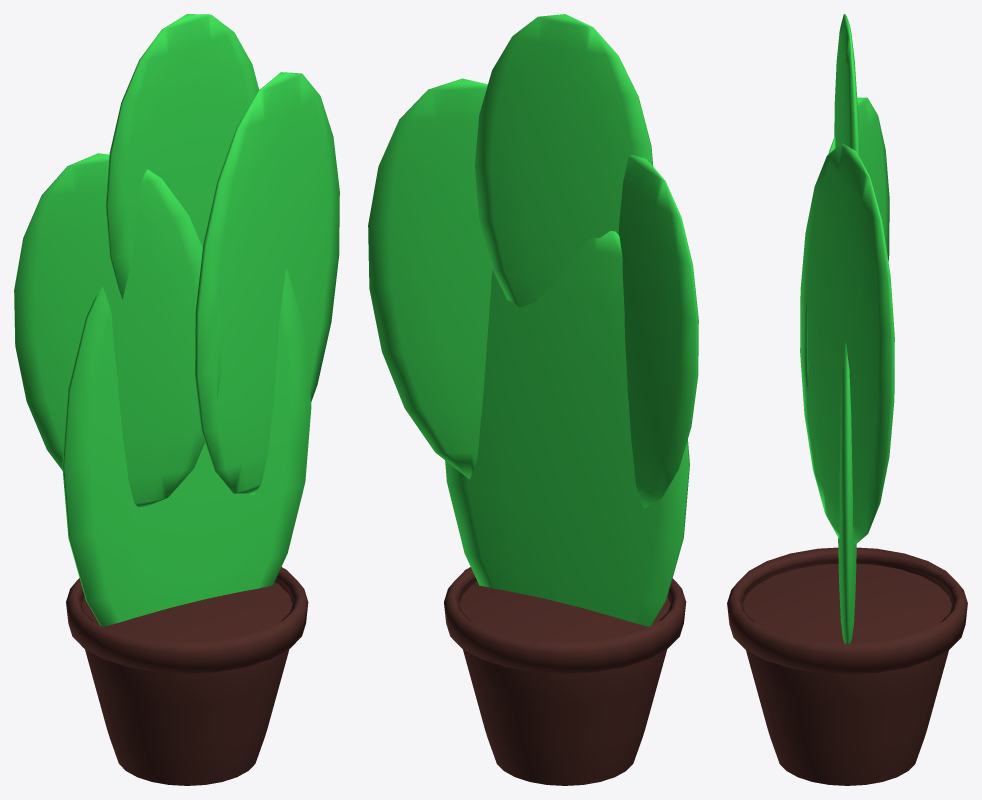
File: Plante06_low.fbx
3 renders of one model, left to right at view 1: azimuth 30°, elevation 25°; view 2: azimuth 150°, elevation 25°; view 3: azimuth 270°, elevation 25°, orthographic.
Visible parts, largest first — view 1: 06_Plante, 06_Pot, 06_Terre; view 2: 06_Plante, 06_Pot, 06_Terre; view 3: 06_Plante, 06_Pot, 06_Terre.
Boxes of the visible parts, x1,y1,x2,y2 form: 06_Plante: (14, 14, 339, 626); 06_Pot: (66, 567, 308, 785); 06_Terre: (82, 582, 292, 642); 06_Plante: (368, 14, 698, 626); 06_Pot: (444, 567, 686, 785); 06_Terre: (460, 582, 670, 642); 06_Plante: (800, 14, 894, 643); 06_Pot: (727, 547, 967, 785); 06_Terre: (743, 563, 951, 643).
Bounding box in the file's own units: 41.65 × 90.12 × 26.67.
